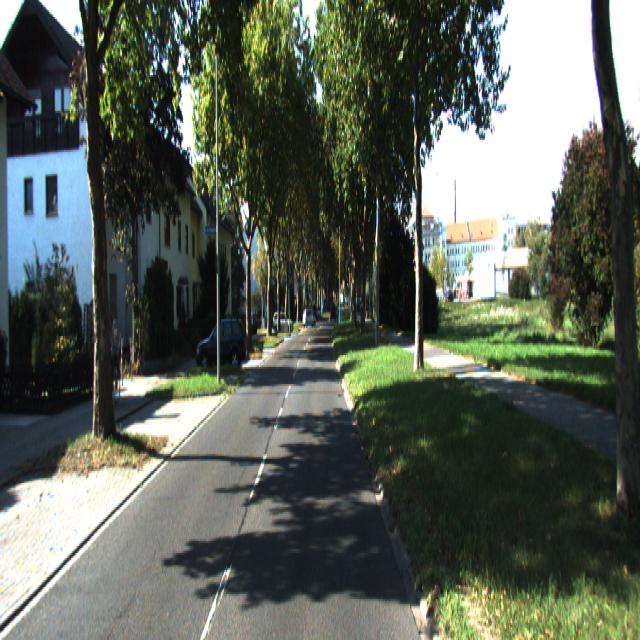Car: (195, 313, 248, 371)
